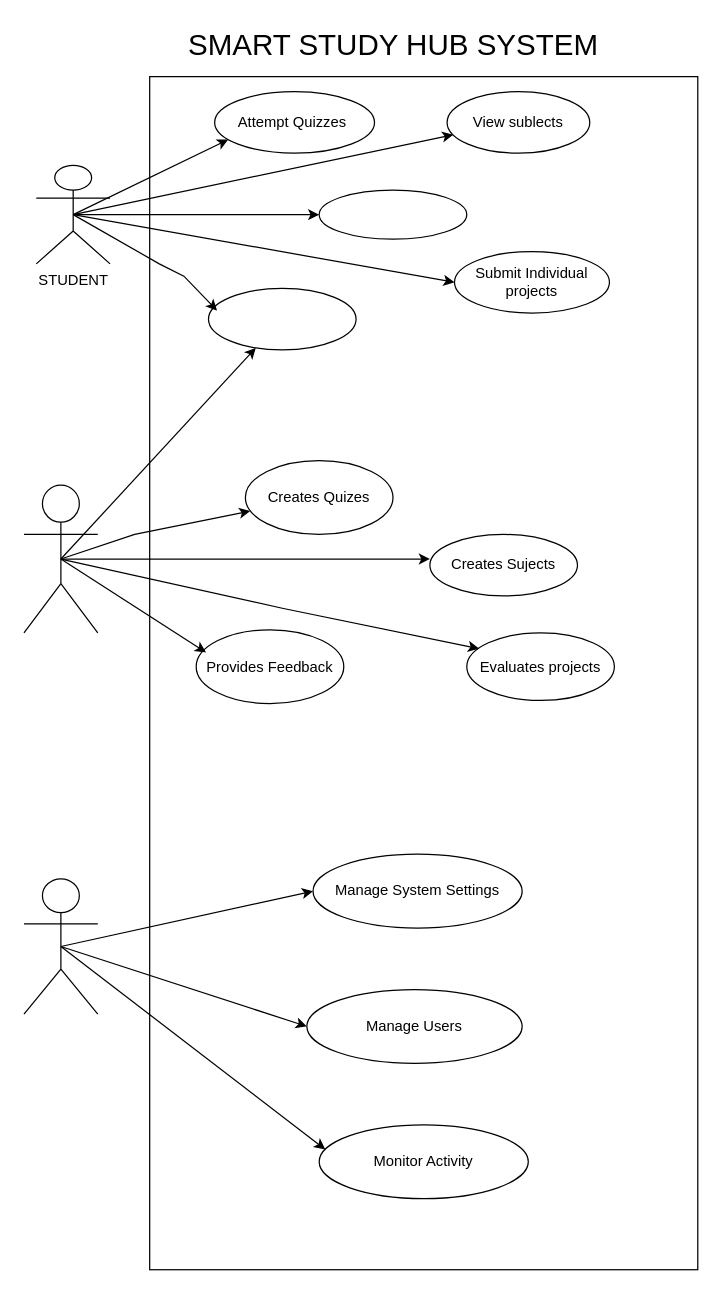
Some shapes in this 720 by 1292 pixel diagram are drawn without their labels. Each missing label, with the box of its shape:
ADMIN: (23, 878, 98, 1014)
LECTURER: (23, 484, 98, 633)
LOGIN: (207, 287, 356, 350)
View Results: (318, 189, 467, 239)
